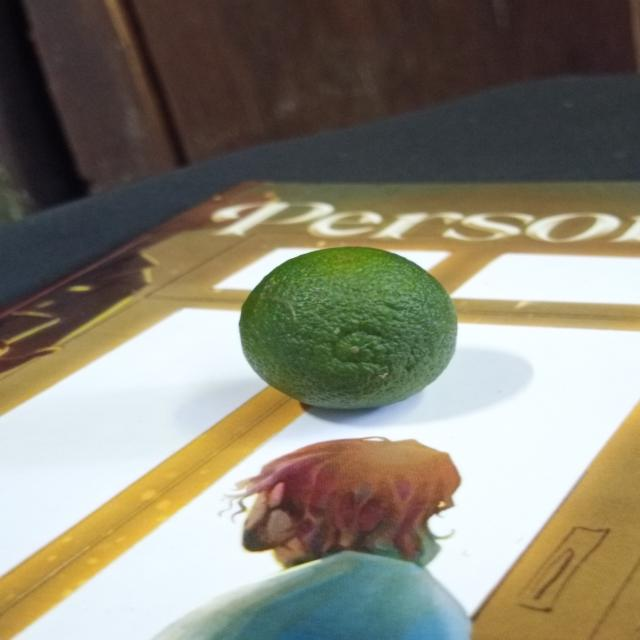heathy: (233, 245, 462, 416)
